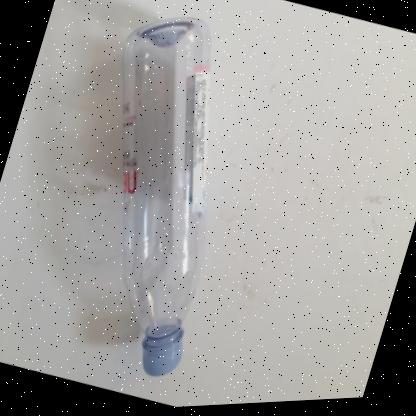Plastic: (120, 17, 209, 377)
